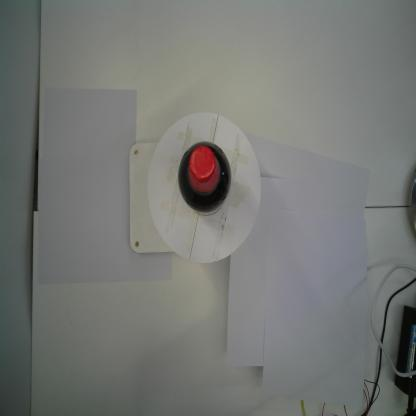Alcohol: (178, 141, 231, 216)
